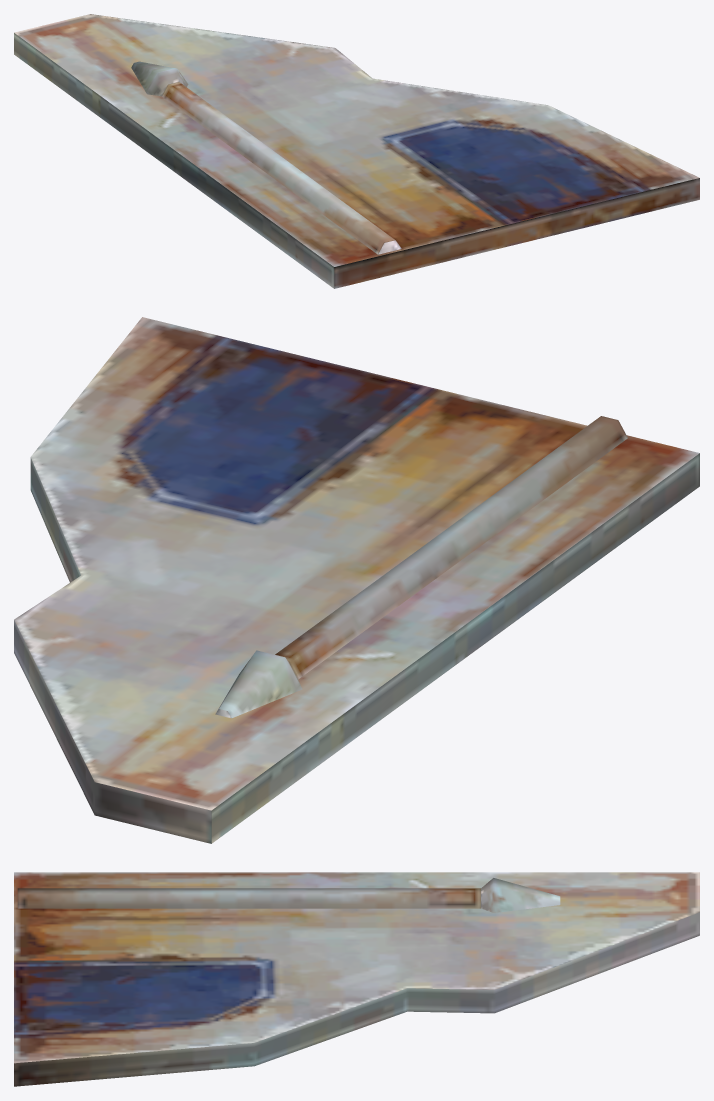
Rendered from tyt_arch_fleshraider_junk_08.glb.
3 views of the same model, one above another, from view 1: azimuth 30°, elevation 25°; view 2: azimuth 150°, elevation 25°; view 3: azimuth 270°, elevation 25° (orthographic). The views are drawn at different scales.
Parts seen in each view (by area): view 1: tyt_arch_fleshraider_junk_08; view 2: tyt_arch_fleshraider_junk_08; view 3: tyt_arch_fleshraider_junk_08.
Boxes of the visible parts, x1,y1,x2,y2 form: tyt_arch_fleshraider_junk_08: [14, 14, 699, 288]; tyt_arch_fleshraider_junk_08: [14, 317, 699, 843]; tyt_arch_fleshraider_junk_08: [14, 872, 699, 1086].
Bounding box in the file's own units: 0.1309 × 0.0137 × 0.1986.
1 material, 1 textured.
